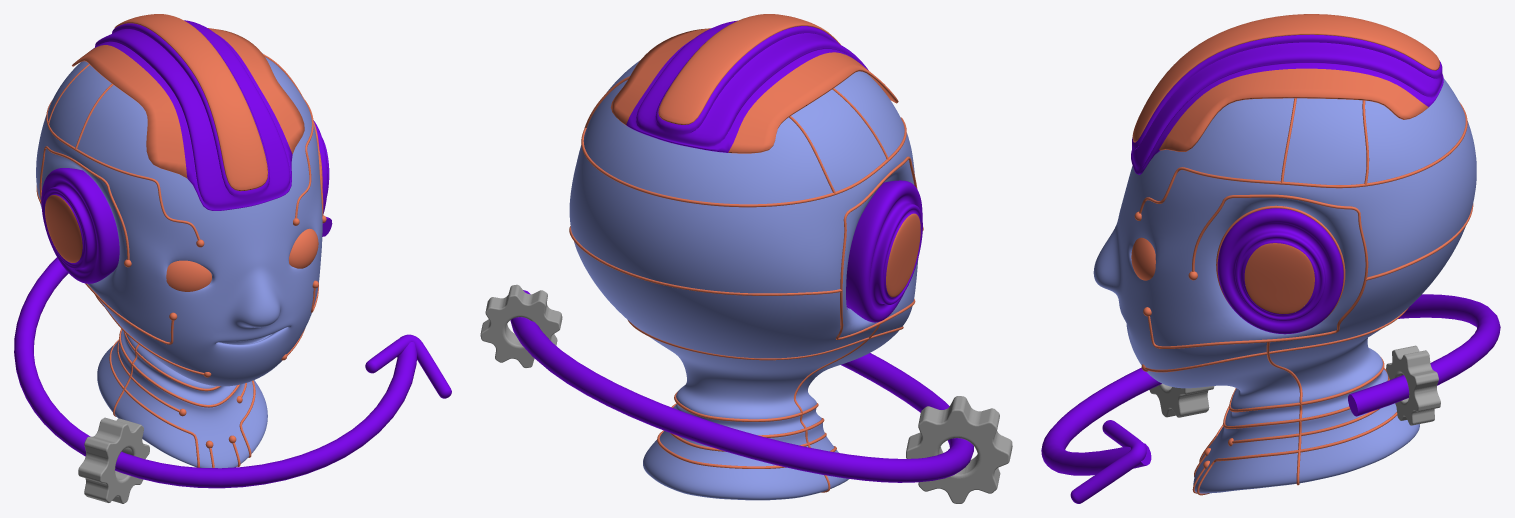
File: ai-self-improvement-3d-animated-icon-1285204670140.glb
The picture shows the model from 3 angles, left to right: view 1: azimuth 30°, elevation 25°; view 2: azimuth 150°, elevation 25°; view 3: azimuth 270°, elevation 25°; orthographic projection. The views are drawn at different scales.
Visible parts, largest first — view 1: Cube.032, Cube.002, Arrow, Cube.014, Face Detail, Cylinder.007, Sphere; view 2: Cube.032, Cube.002, Arrow, Face Detail, Cylinder.007, Cube.014, Cylinder.001; view 3: Cube.032, Cube.002, Arrow, Face Detail, Cube.014, Cylinder.001, Cylinder.007, Sphere, Cube.015.
Boxes of the visible parts, <box> form: Cube.032: <box>36,53,329,468</box>; Cube.002: <box>72,20,304,210</box>; Arrow: <box>14,217,451,488</box>; Cube.014: <box>114,14,268,191</box>; Face Detail: <box>36,54,326,467</box>; Cylinder.007: <box>78,417,149,503</box>; Sphere: <box>166,228,318,291</box>; Cube.032: <box>569,60,922,500</box>; Cube.002: <box>610,20,898,153</box>; Arrow: <box>510,290,973,482</box>; Face Detail: <box>569,76,923,492</box>; Cylinder.007: <box>906,396,1012,503</box>; Cube.014: <box>658,14,840,124</box>; Cylinder.001: <box>480,284,562,367</box>; Cube.032: <box>1093,78,1476,493</box>; Cube.002: <box>1131,34,1443,174</box>; Arrow: <box>1041,294,1500,503</box>; Face Detail: <box>1134,98,1473,495</box>; Cube.014: <box>1132,14,1439,142</box>; Cylinder.001: <box>1386,345,1440,425</box>; Cylinder.007: <box>1149,383,1214,417</box>; Sphere: <box>1131,237,1155,280</box>; Cube.015: <box>1216,205,1345,321</box>.
Size of the model in its own units: 0.3819 by 0.4407 by 0.3919.
